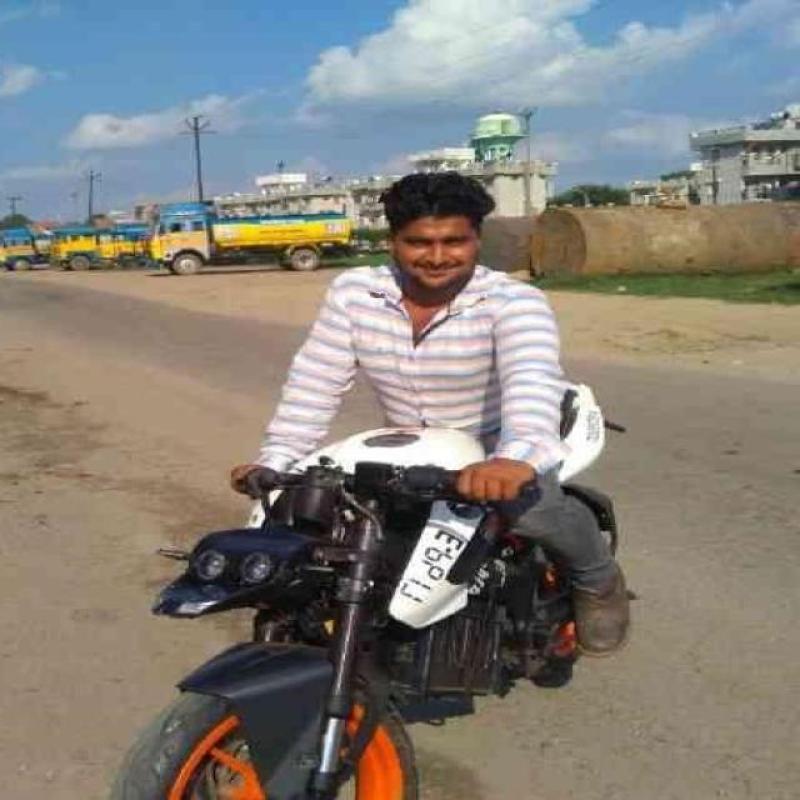nohelmet: (369, 164, 506, 298)
